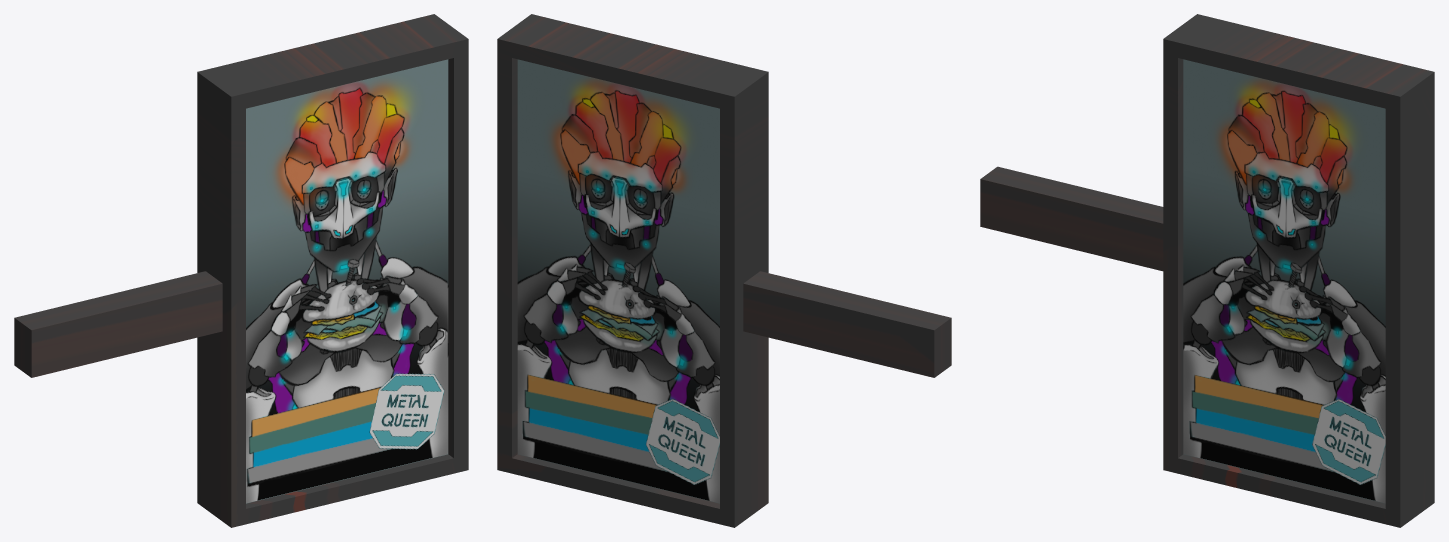
The model's file is Sign_board_2-05-20-2022.fbx.
3 views of the same model, side by side, from view 1: azimuth 30°, elevation 25°; view 2: azimuth 150°, elevation 25°; view 3: azimuth 330°, elevation 25° (orthographic).
Parts seen in each view (by area): view 1: Box001; view 2: Box001; view 3: Box001.
Boxes of the visible parts, <box> form: Box001: <box>14,14,468,527</box>; Box001: <box>497,14,951,527</box>; Box001: <box>980,14,1434,527</box>.
Size of the model in its own units: 146 by 140 by 20.08.
